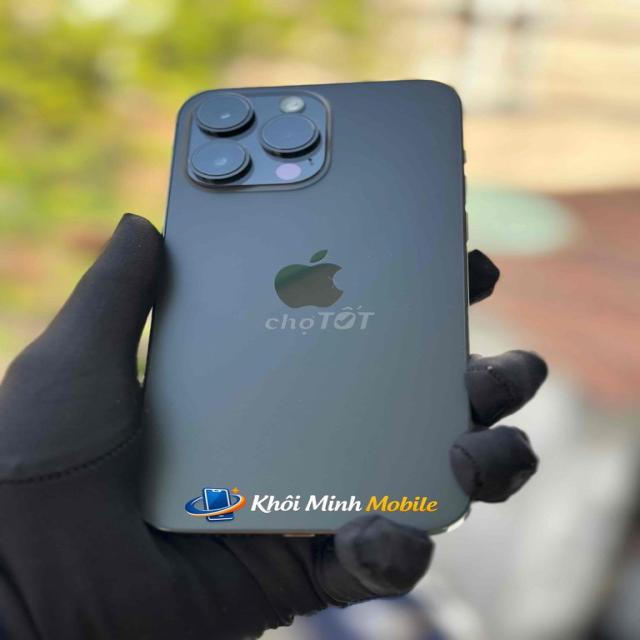gen_14: (143, 71, 488, 535)
